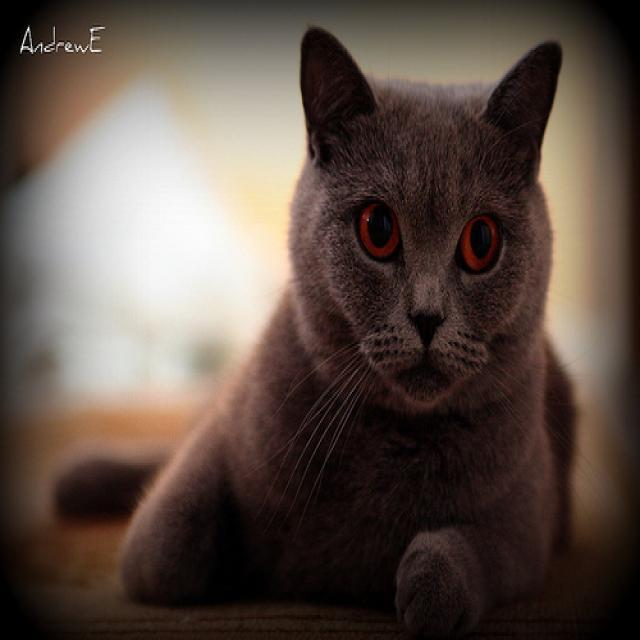British_Shorthair: (284, 20, 572, 422)
